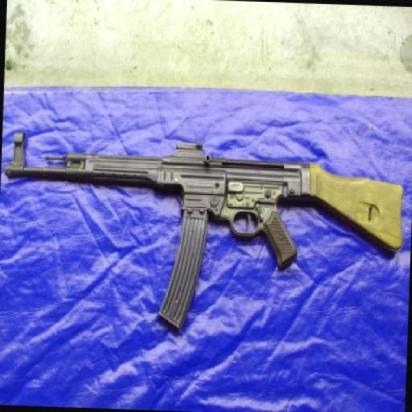Gun: (2, 114, 403, 342)
